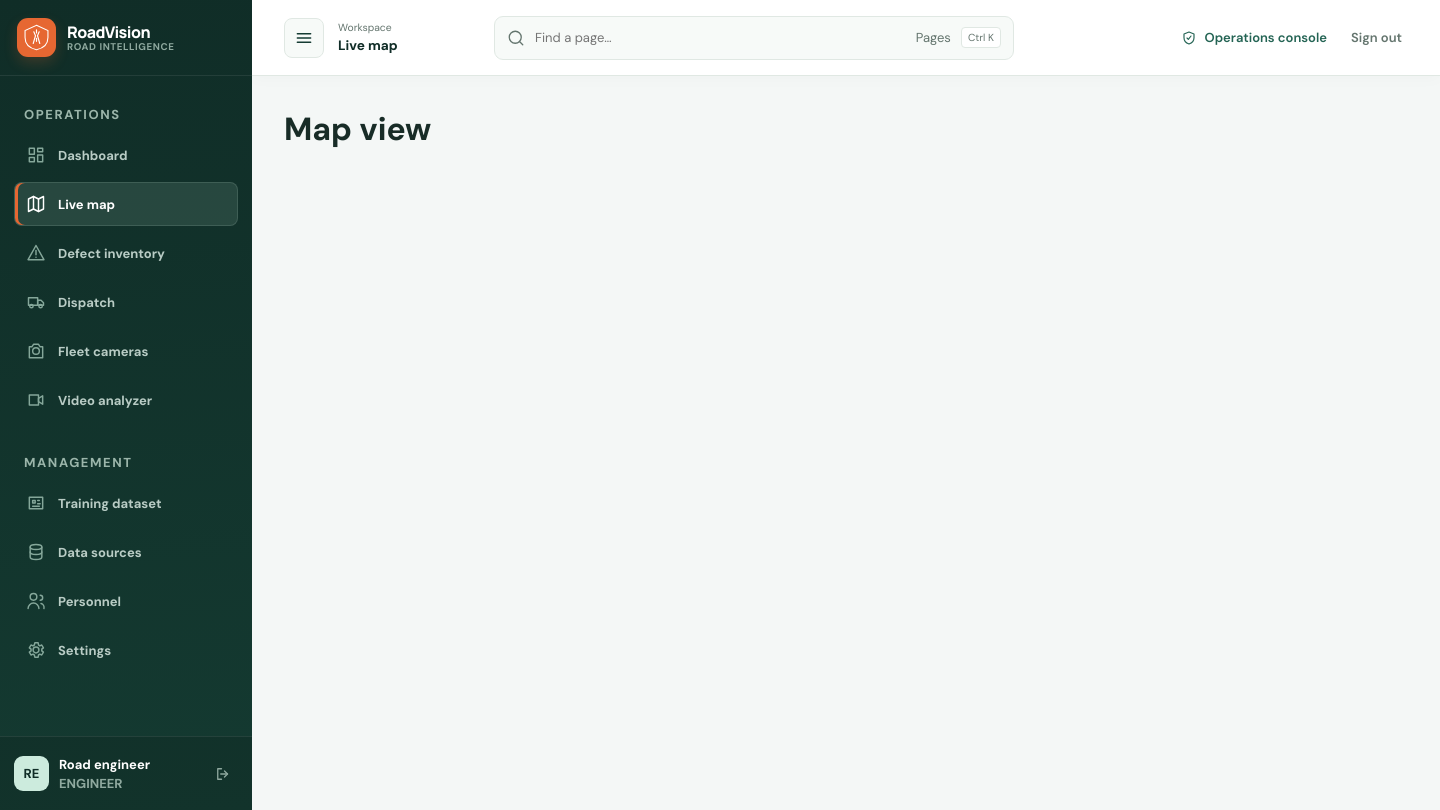
page search › opens the first matching page on submit and dismisses results when focus leaves
In the search field named "Search pages": (720, 38) [535,29,906,46], type "dashboard"
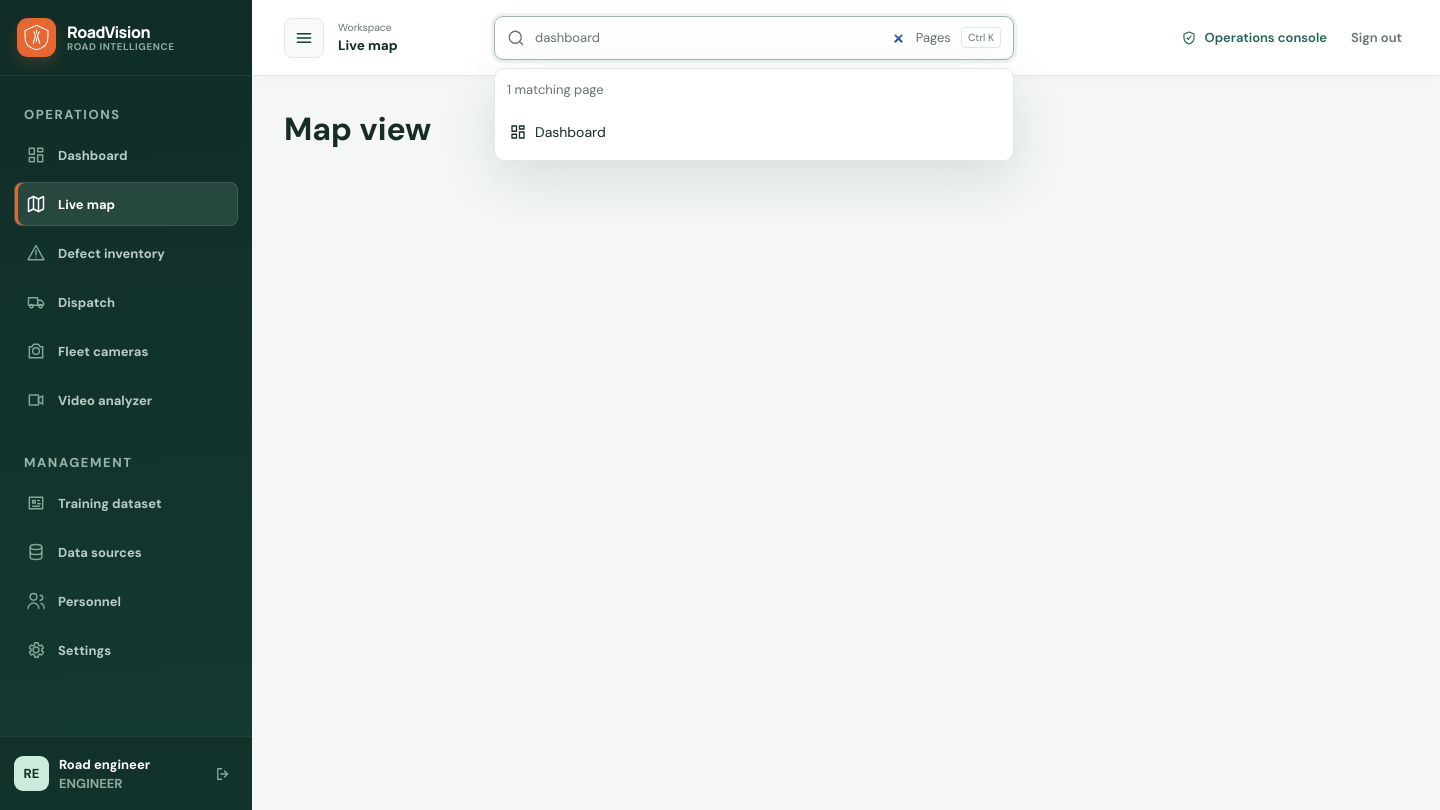
Click the heading "Map view": (358, 129) [284,108,431,150]
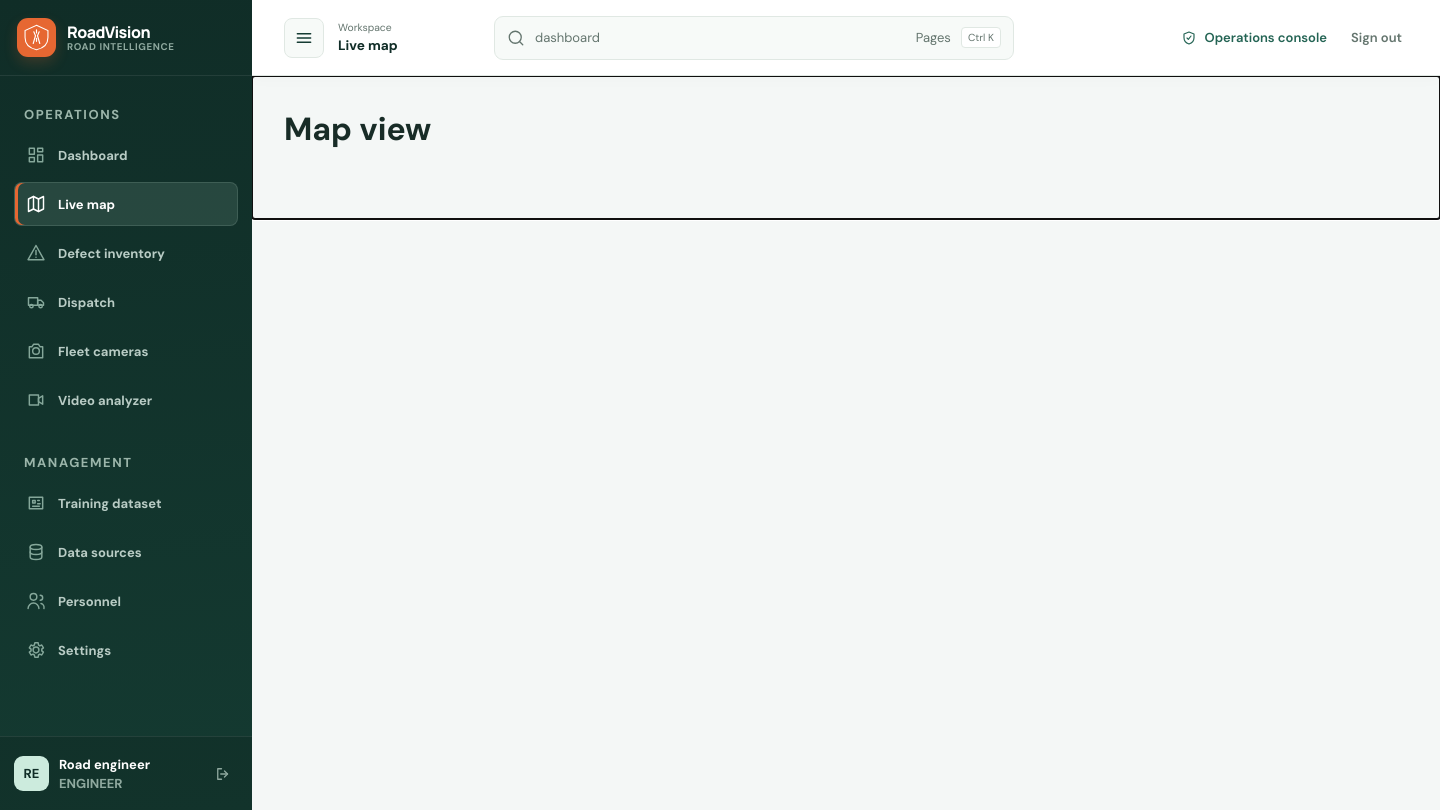
Click the search field named "Search pages": (720, 38) [535,29,906,46]
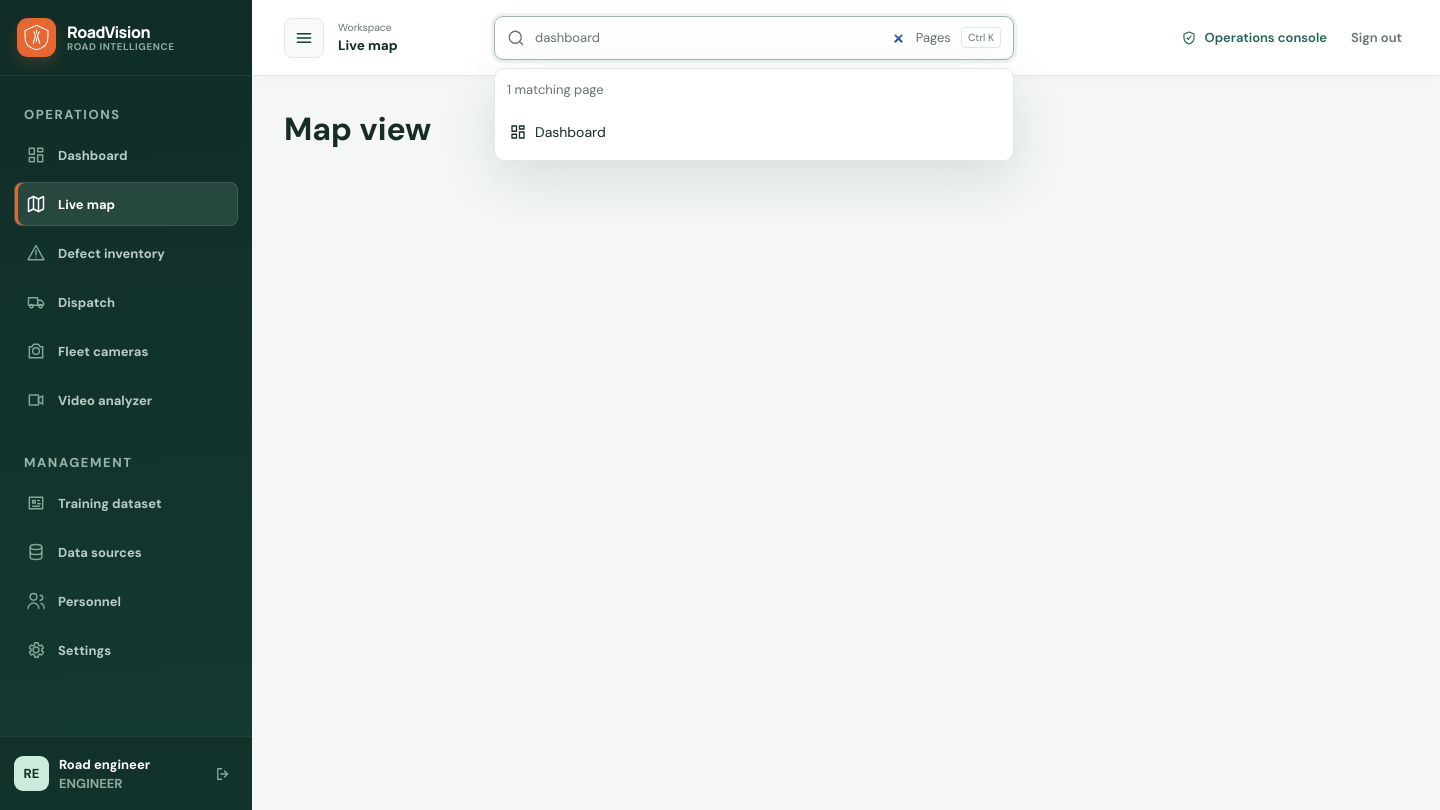
Press Enter
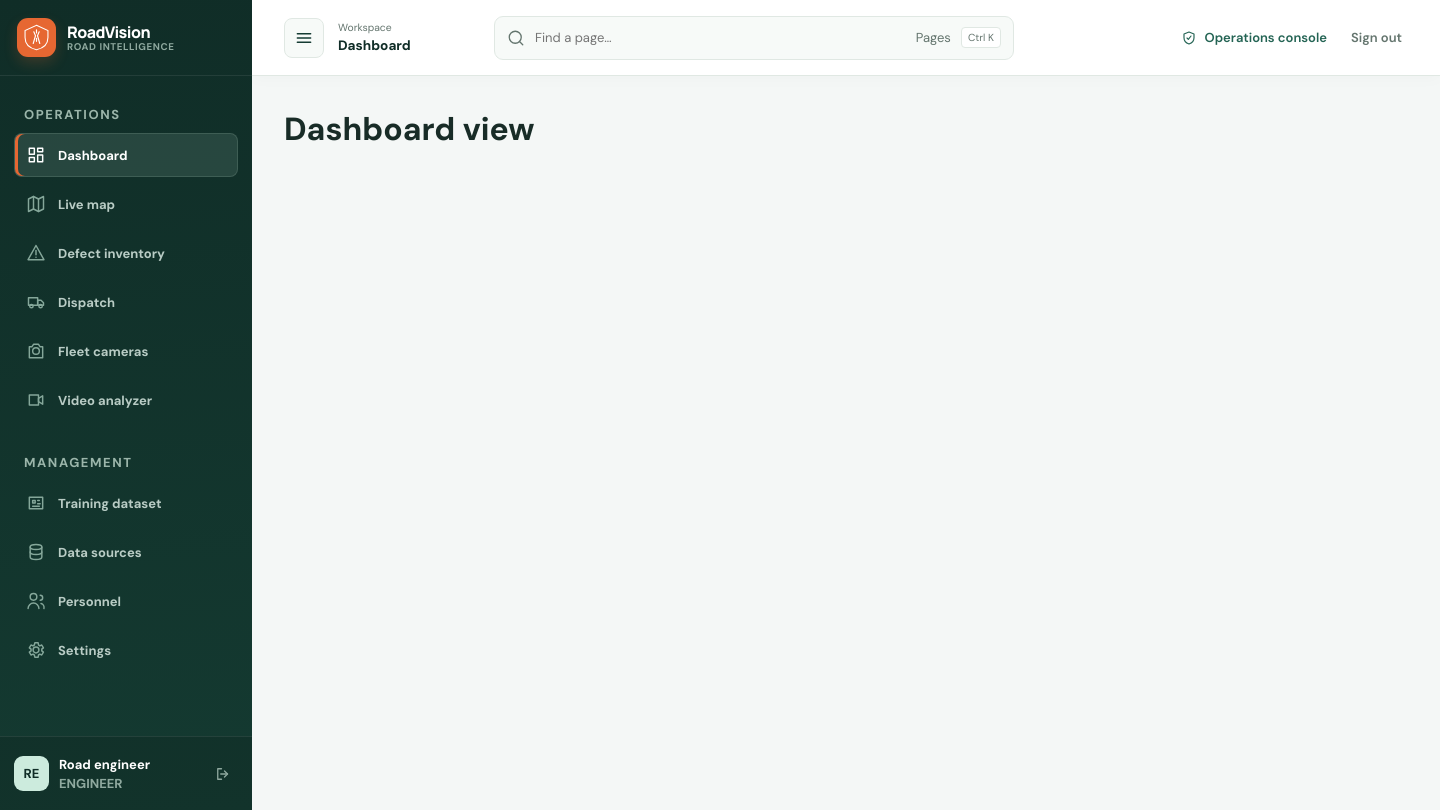
Check: the heading "Dashboard view" is shown, box [284,108,534,150]
